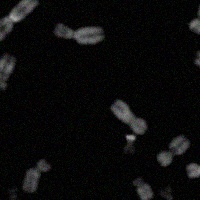chromosome: (0, 0, 38, 39), (111, 99, 147, 134), (54, 22, 104, 43), (158, 135, 189, 167), (22, 160, 51, 192), (130, 174, 153, 200), (0, 52, 15, 90), (188, 0, 200, 32), (123, 135, 137, 156), (187, 161, 200, 182), (161, 188, 175, 200), (194, 50, 200, 76)
